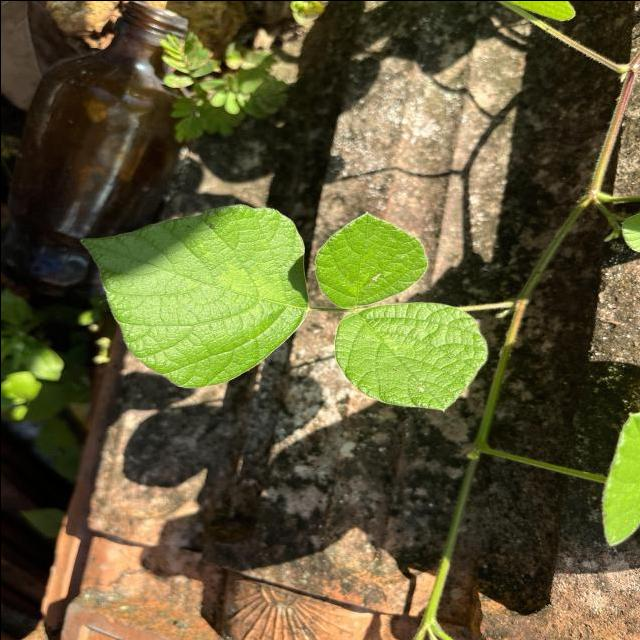Pseudarthria viscida: (75, 200, 492, 414)
